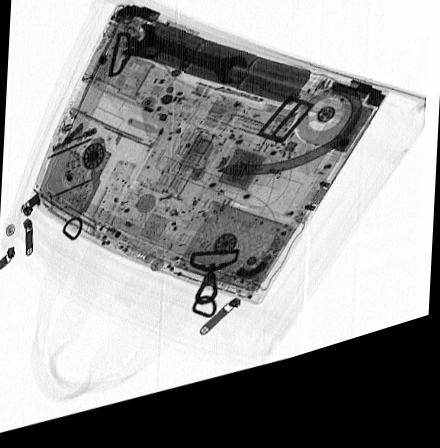Wrench: (127, 30, 250, 99)
